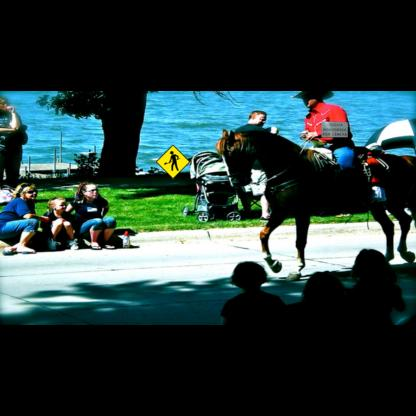A-24: (156, 145, 190, 179)
I-E: (321, 121, 348, 137)
